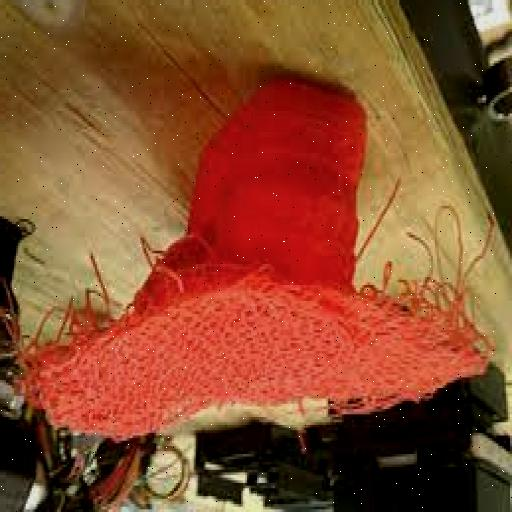spaghetti: (34, 236, 182, 460), (342, 205, 490, 381)
